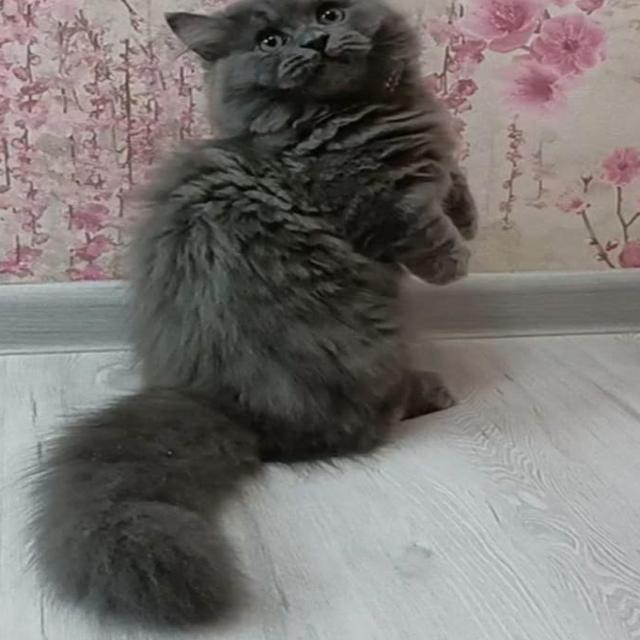Munchkin: (17, 0, 487, 640)
